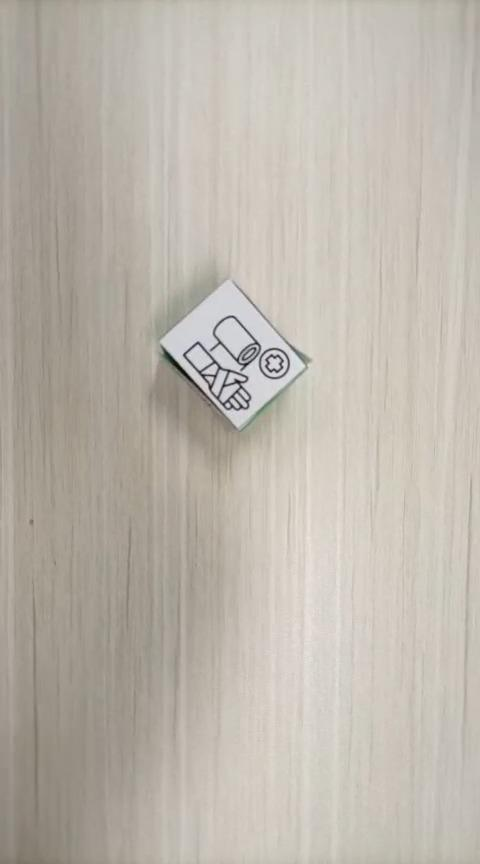Bandages: (158, 277, 309, 432)
